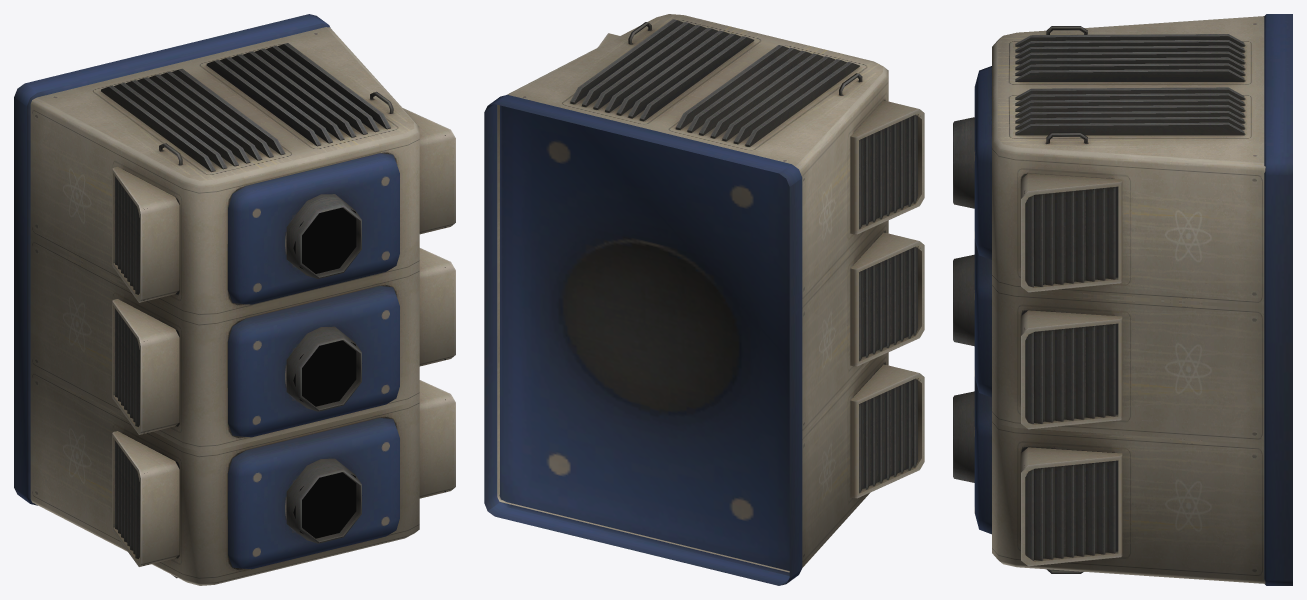
Rendered from nt_generator_blue_LOD1.obj.
3 views of the same model, side by side, from view 1: azimuth 30°, elevation 25°; view 2: azimuth 150°, elevation 25°; view 3: azimuth 270°, elevation 25° (orthographic). The views are drawn at different scales.
Parts seen in each view (by area): view 1: mtl_nt_generator_blue, mtl_p6_fan_standing_modern_on; view 2: mtl_nt_generator_blue; view 3: mtl_nt_generator_blue.
Part boxes in pixels (x1,y1,x2,y2): mtl_nt_generator_blue: (14,14,455,585); mtl_p6_fan_standing_modern_on: (293,207,356,538); mtl_nt_generator_blue: (484,14,924,585); mtl_nt_generator_blue: (953,14,1292,585).
Size of the model in its own units: 293 by 378 by 264.
